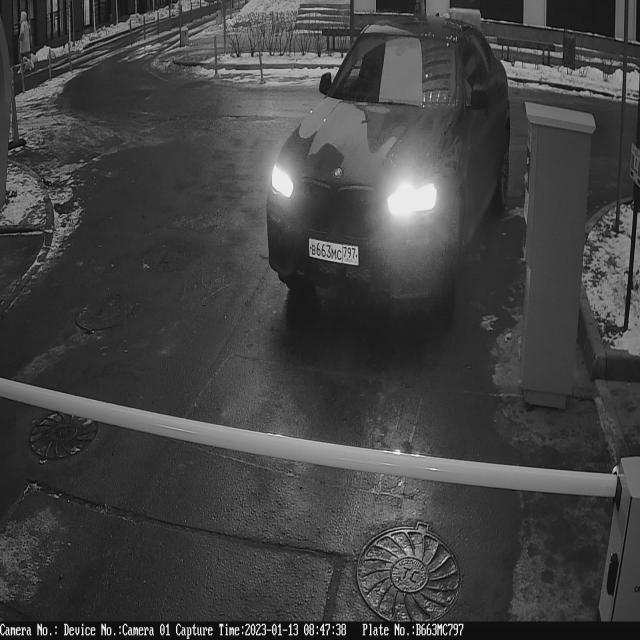car-plate-numbers: (308, 234, 363, 269)
